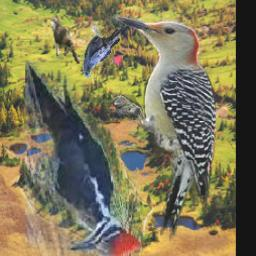Crow: (83, 28, 121, 79)
Cuckoo: (45, 16, 81, 64)
Woodpecker: (109, 11, 216, 242), (25, 60, 142, 256)
